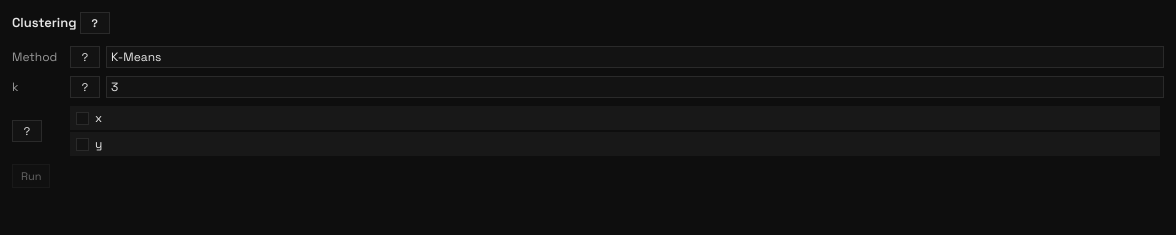
ClusteringPanel › switches method to hierarchical and shows linkage
Select "Hierarchical" in the dropdown named "clustering method". click: (635, 57)
box: [106,46,1164,68]
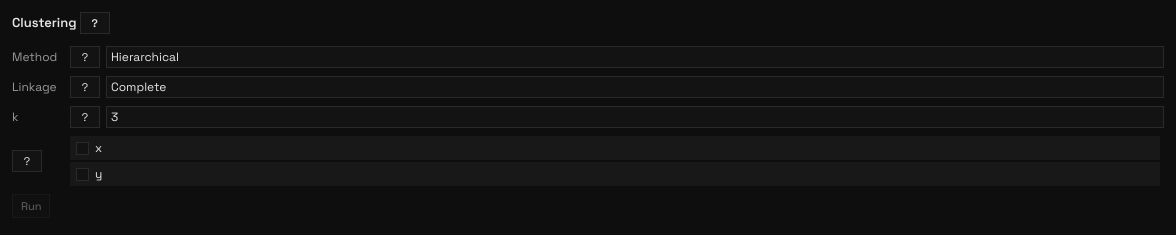
Result: the dropdown named "linkage method" is shown at [106,76,1164,98]
